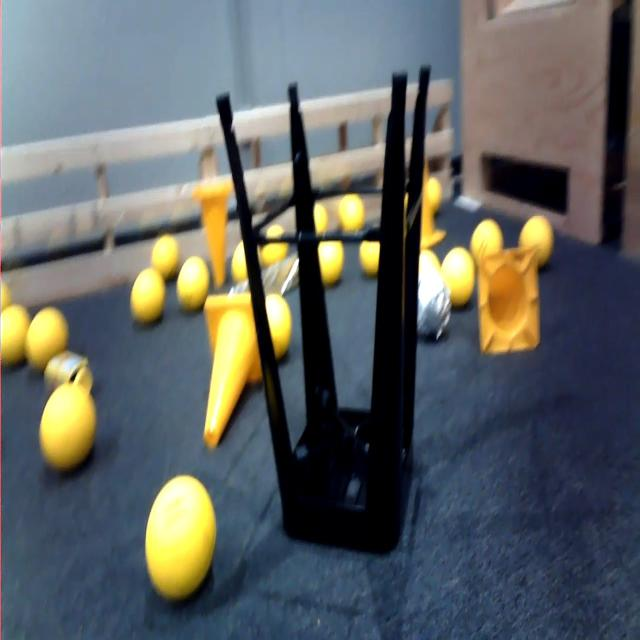fuel: (143, 472, 218, 600), (37, 380, 99, 467), (26, 304, 71, 369), (127, 267, 170, 332), (175, 248, 214, 316), (0, 297, 34, 367), (263, 290, 300, 353), (442, 246, 476, 314), (520, 211, 558, 270), (336, 186, 374, 244), (314, 229, 350, 289), (471, 211, 507, 264), (351, 216, 386, 269), (260, 220, 294, 272), (228, 229, 263, 274), (153, 233, 180, 281), (308, 192, 332, 232), (425, 173, 447, 216), (418, 246, 444, 278), (0, 277, 16, 316)
